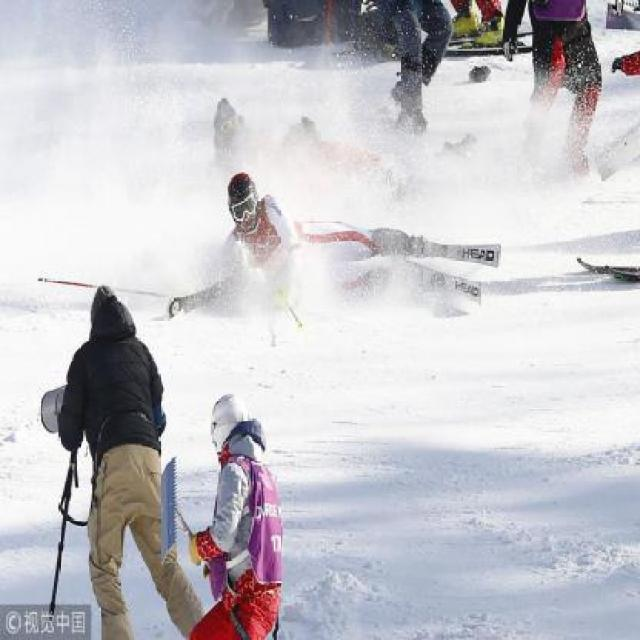fall: (177, 160, 512, 332)
